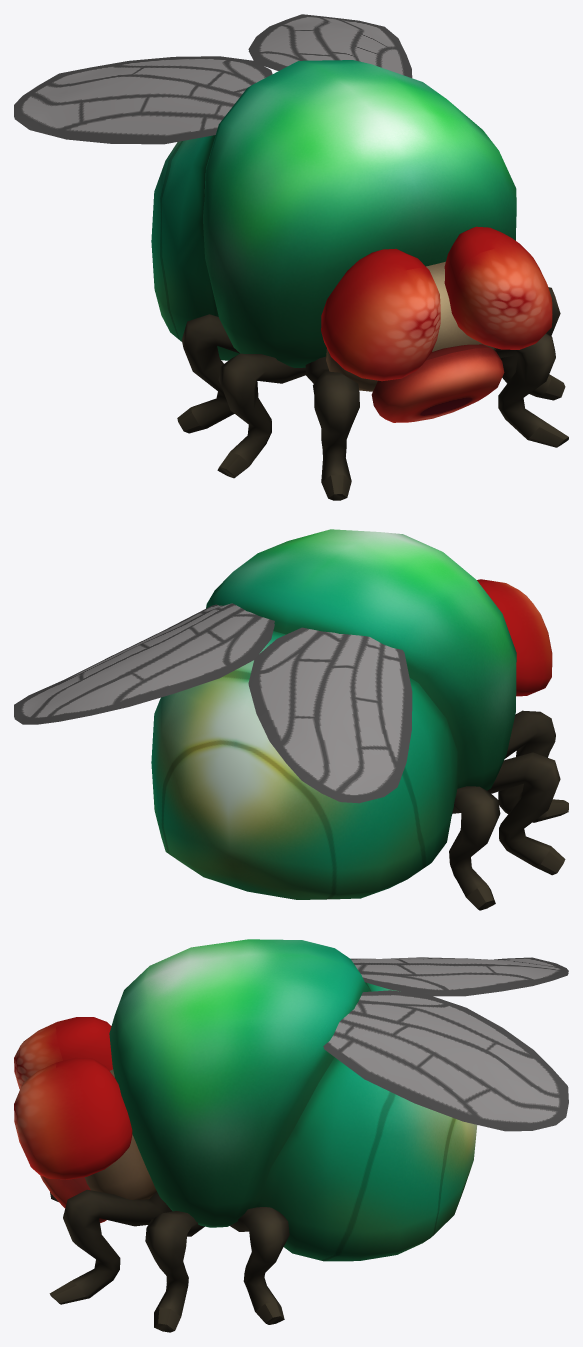
Rendered from fly.FBX.
3 renders of one model, top to bottom at view 1: azimuth 30°, elevation 25°; view 2: azimuth 150°, elevation 25°; view 3: azimuth 270°, elevation 25°, orthographic. The views are drawn at different scales.
Parts seen in each view (by area): view 1: fly; view 2: fly; view 3: fly.
Boxes of the visible parts, bbox=[...] form: fly: bbox=[14, 14, 568, 500]; fly: bbox=[14, 529, 568, 910]; fly: bbox=[14, 939, 568, 1332].
Bounding box in the file's own units: 27.8 × 22.84 × 37.93.
